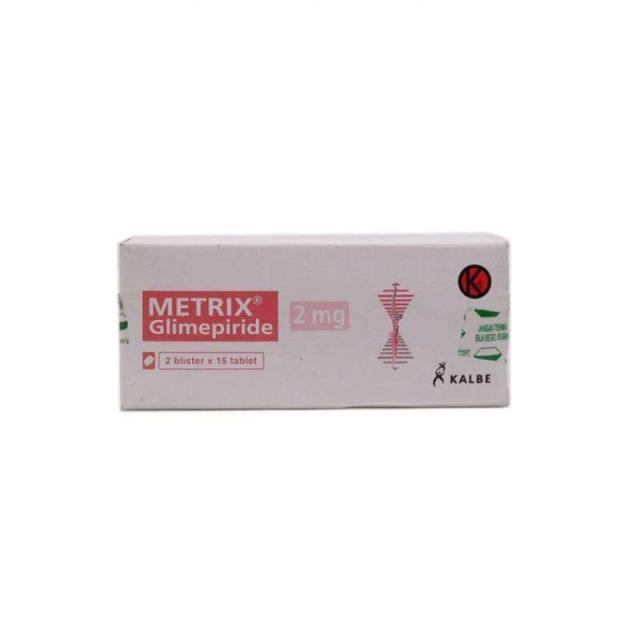drug-name: (146, 292, 254, 318)
